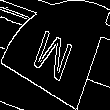M_SW: (31, 22, 79, 88)
